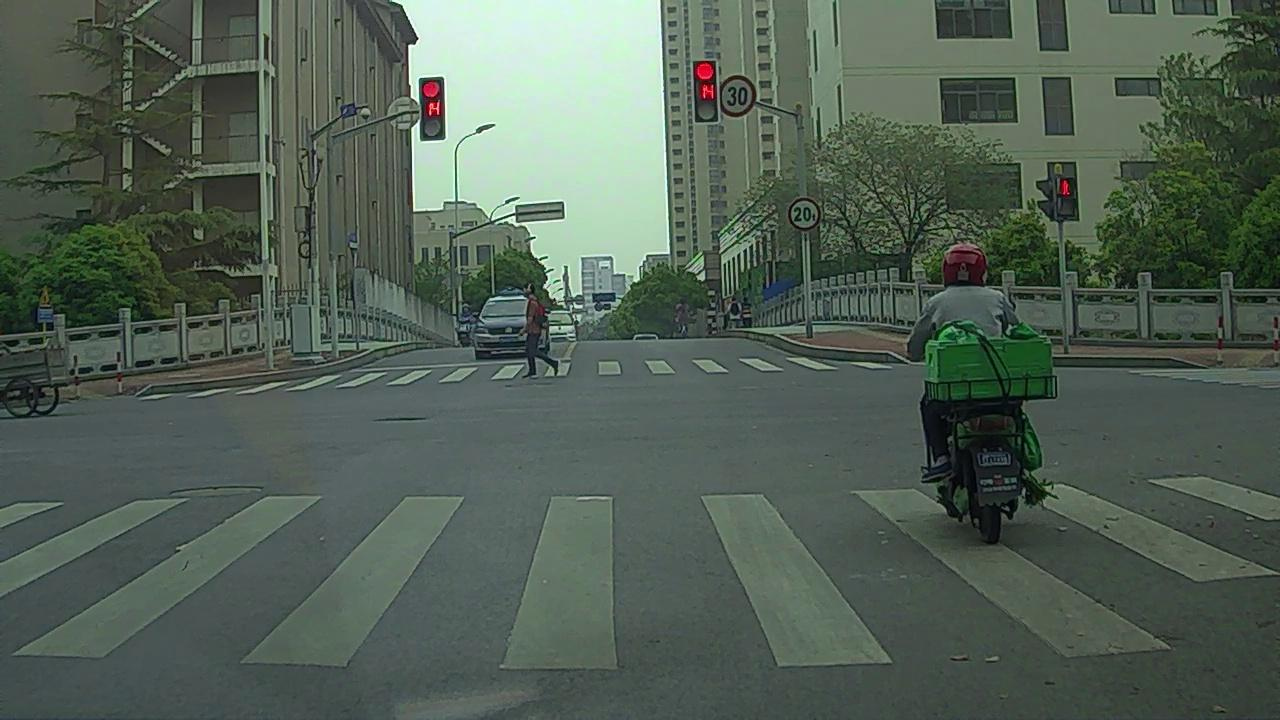traffic_light: (695, 60, 718, 122), (423, 76, 445, 140)
